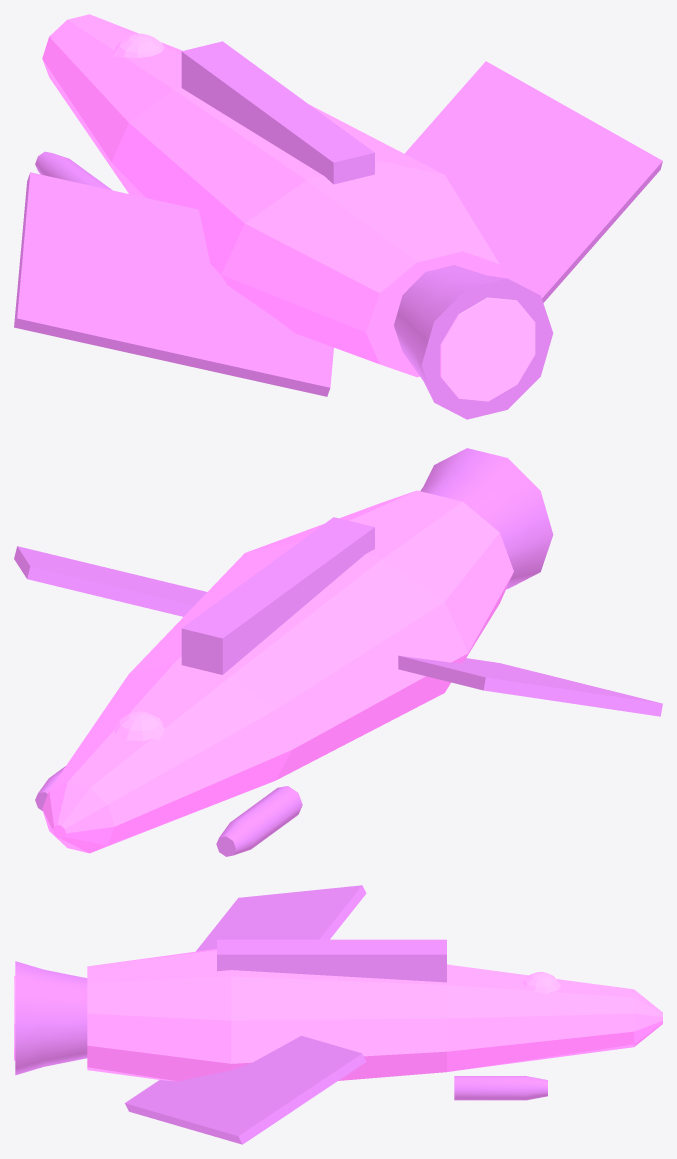
File: fighter_drone.glb
3 renders of one model, top to bottom at view 1: azimuth 30°, elevation 25°; view 2: azimuth 150°, elevation 25°; view 3: azimuth 270°, elevation 25°, orthographic. The views are drawn at different scales.
Parts seen in each view (by area): view 1: Merged_DroneDark, Merged_DroneBody, Merged_DroneEngine; view 2: Merged_DroneBody, Merged_DroneDark, Merged_DroneEngine; view 3: Merged_DroneBody, Merged_DroneDark, Merged_DroneEngine.
Part boxes in pixels (left/top/right/bottom): Merged_DroneDark: left=14, top=41, right=662, bottom=419; Merged_DroneBody: left=42, top=14, right=505, bottom=377; Merged_DroneEngine: left=113, top=33, right=535, bottom=401; Merged_DroneBody: left=42, top=490, right=513, bottom=853; Merged_DroneDark: left=14, top=448, right=662, bottom=856; Merged_DroneEngine: left=113, top=711, right=164, bottom=741; Merged_DroneBody: left=87, top=949, right=662, bottom=1081; Merged_DroneDark: left=15, top=885, right=547, bottom=1144; Merged_DroneEngine: left=14, top=972, right=561, bottom=1060.
Size of the model in its own units: 3.93 by 1.02 by 4.51.
